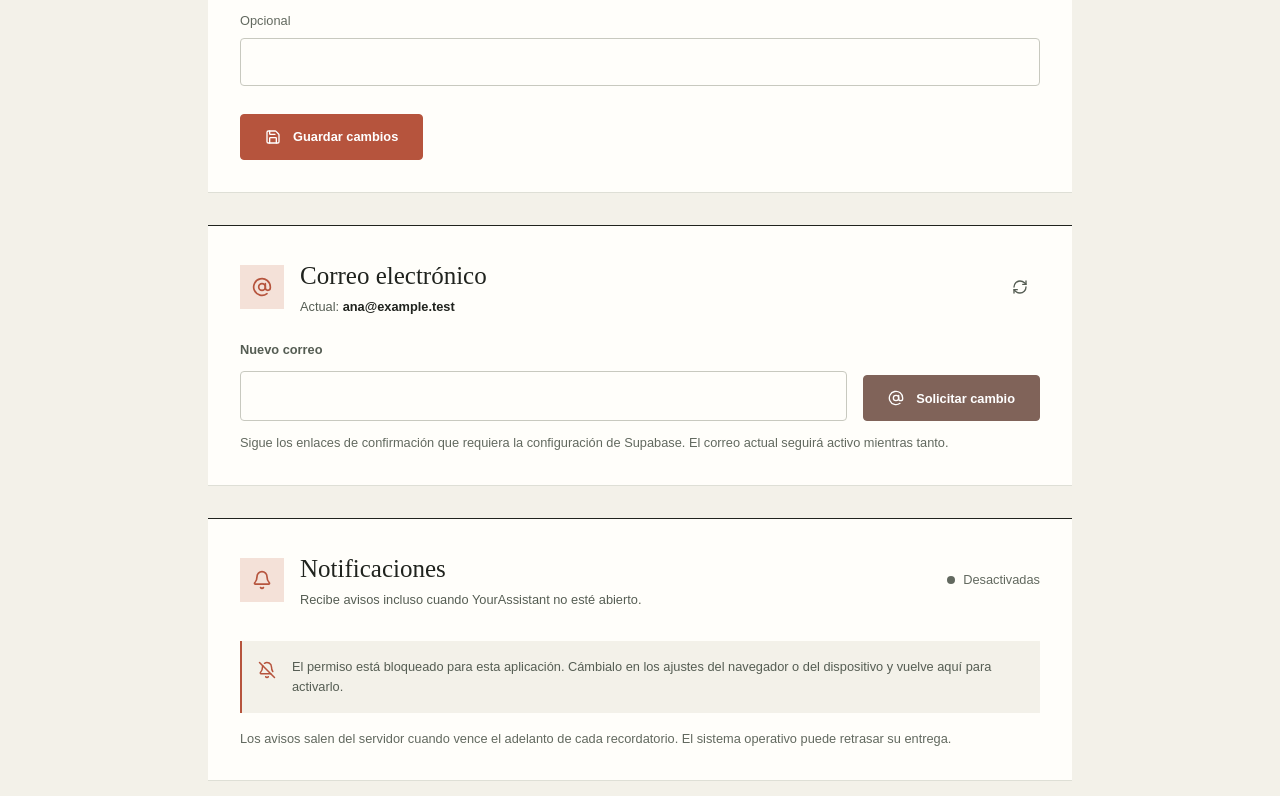
ProfilePage › requests an email change and displays it as pending confirmation
(page scrolled)
Type "ana.nueva@example.test" into the field labelled "Nuevo correo". click: (544, 396)
box: [257, 372, 830, 420]
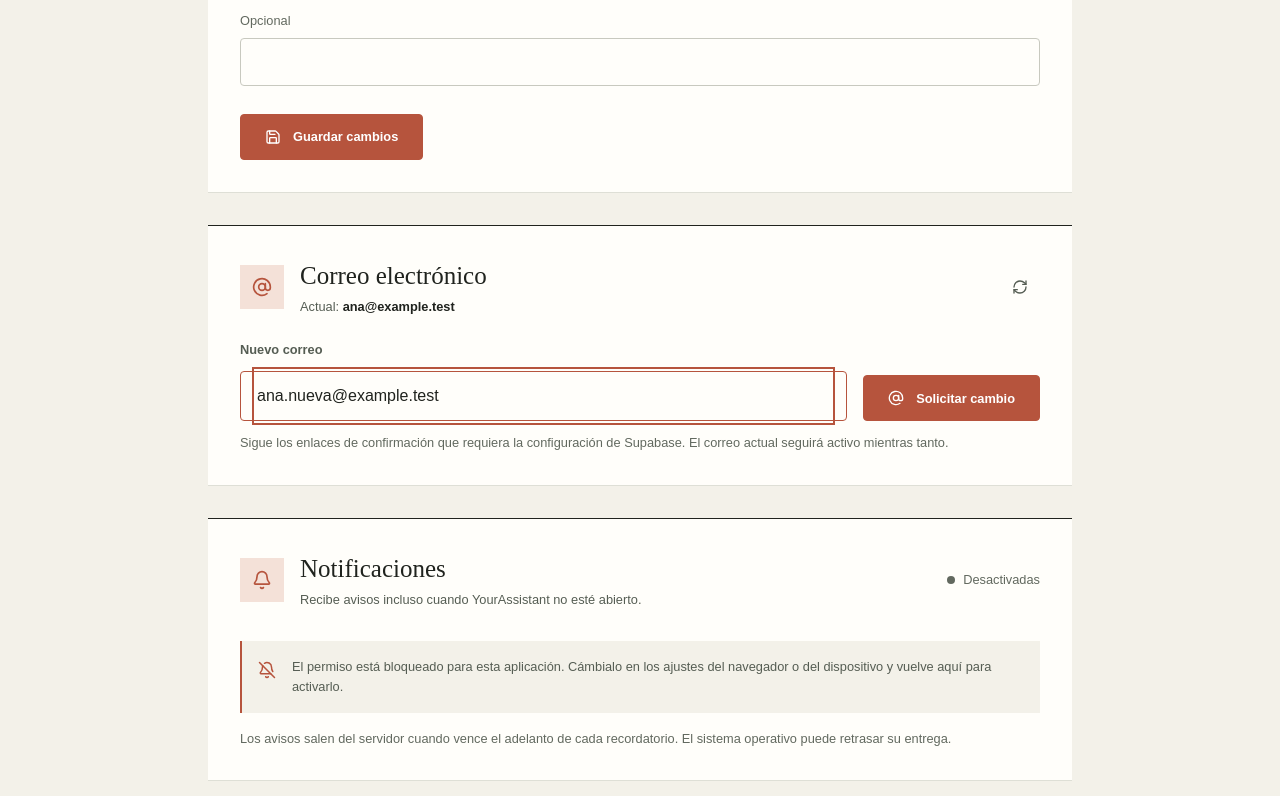
Click the button "Solicitar cambio". click: (952, 398)
box: [863, 375, 1040, 422]
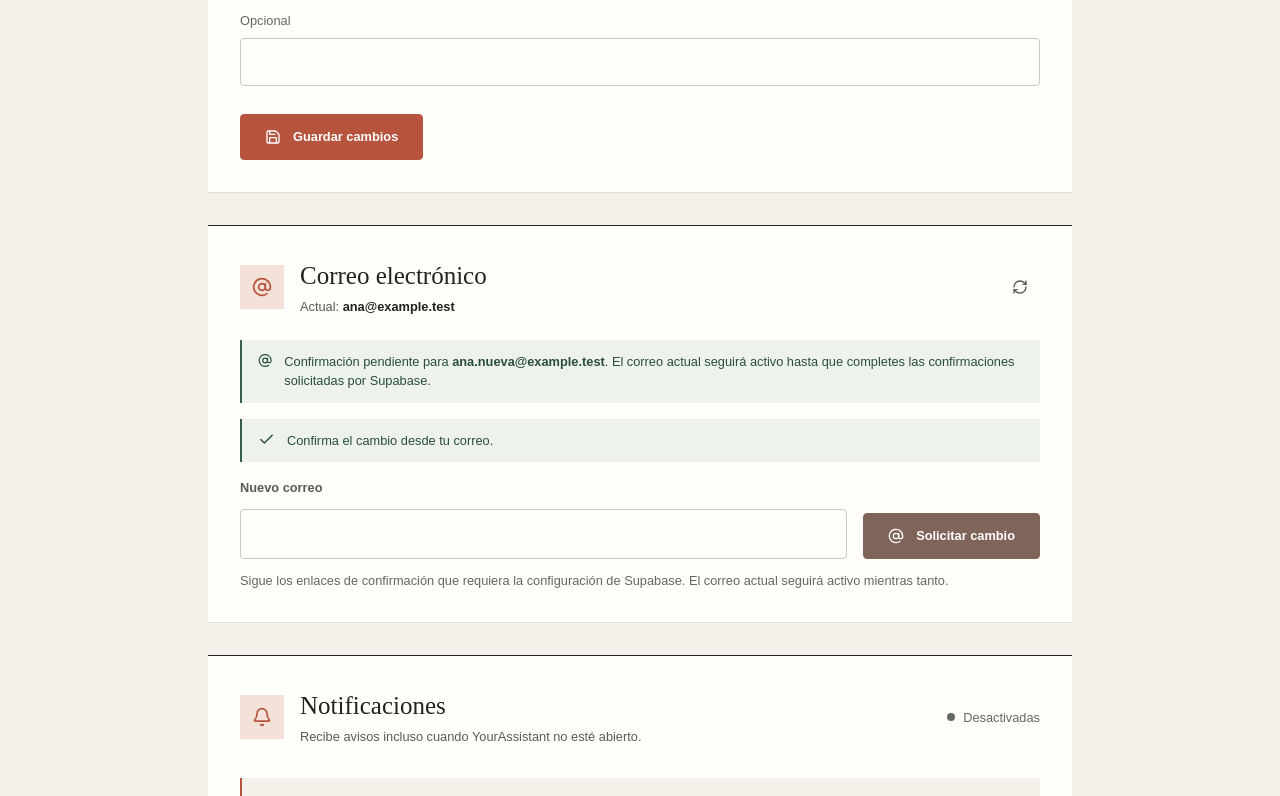
Expected: the text "ana.nueva@example.test" is shown, [452, 354, 605, 369]
